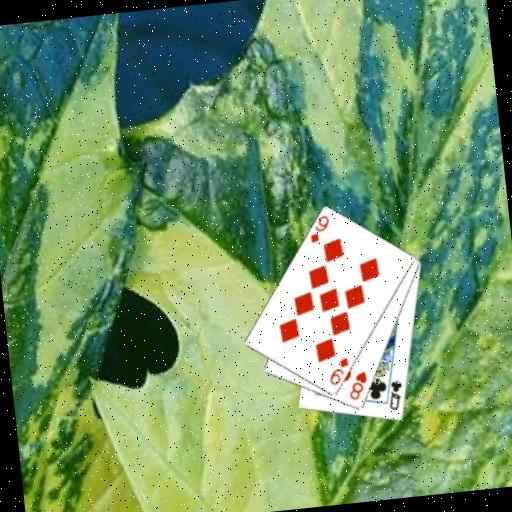8H: (344, 368, 371, 402)
9D: (325, 354, 353, 388), (305, 212, 333, 246)
QC: (384, 377, 406, 413)
